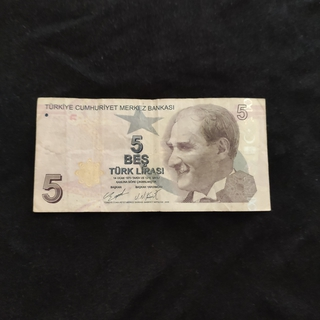5TLFront: (32, 97, 273, 213)
